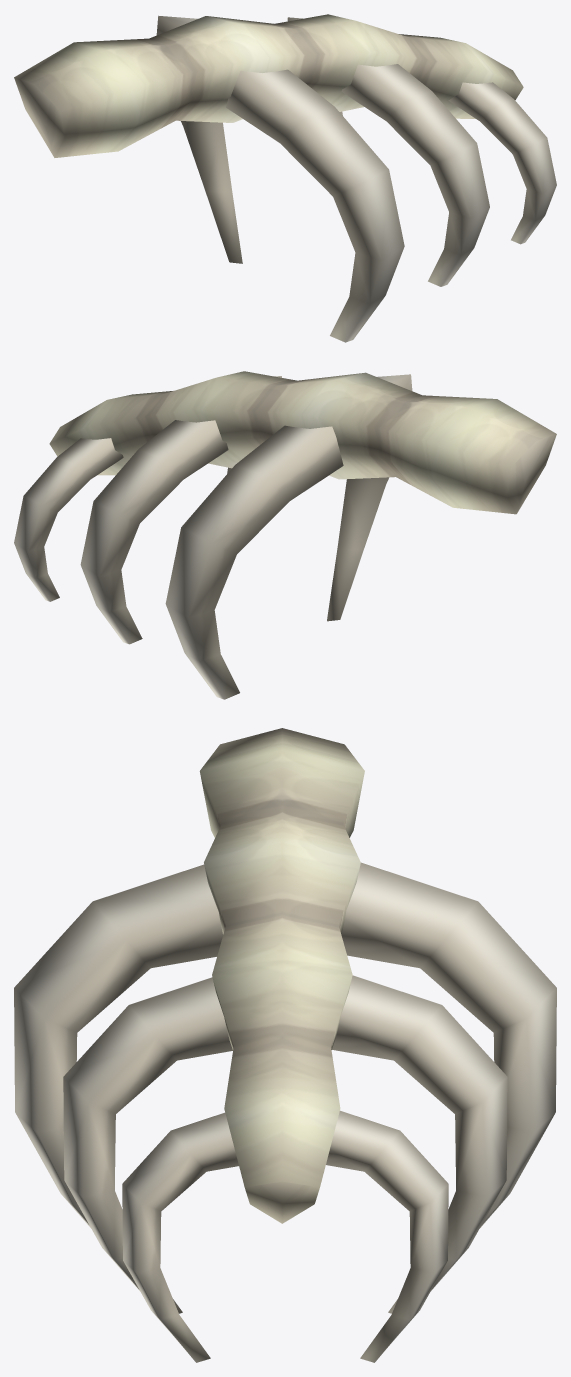
Rendered from Ctn_horse_skeleton_01_v02.fbx.
3 views of the same model, one above another, from view 1: azimuth 30°, elevation 25°; view 2: azimuth 150°, elevation 25°; view 3: azimuth 270°, elevation 25° (orthographic). The views are drawn at different scales.
Visible parts, largest first — view 1: horse_skeleton_01_v02; view 2: horse_skeleton_01_v02; view 3: horse_skeleton_01_v02.
Boxes of the visible parts, x1=… form: horse_skeleton_01_v02: x1=14, y1=14, x2=556, y2=342; horse_skeleton_01_v02: x1=14, y1=371, x2=556, y2=699; horse_skeleton_01_v02: x1=14, y1=728, x2=556, y2=1362.
Size of the model in its own units: 97.27 by 57.58 by 70.89.
